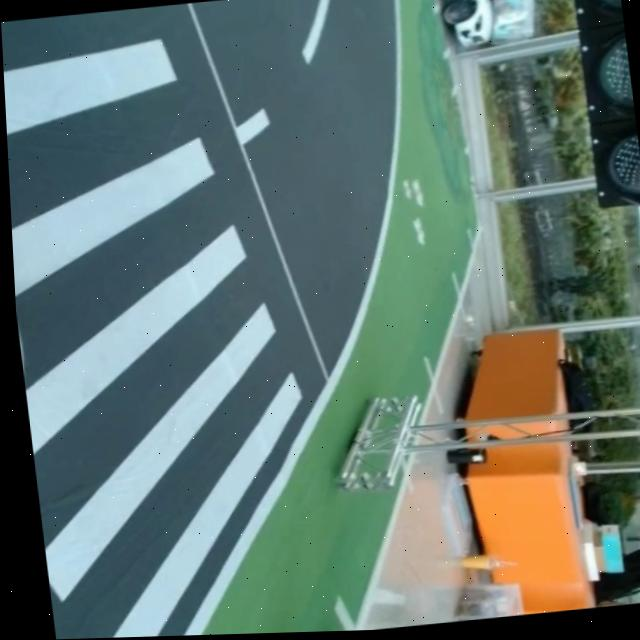traffic-light: (563, 0, 640, 217)
